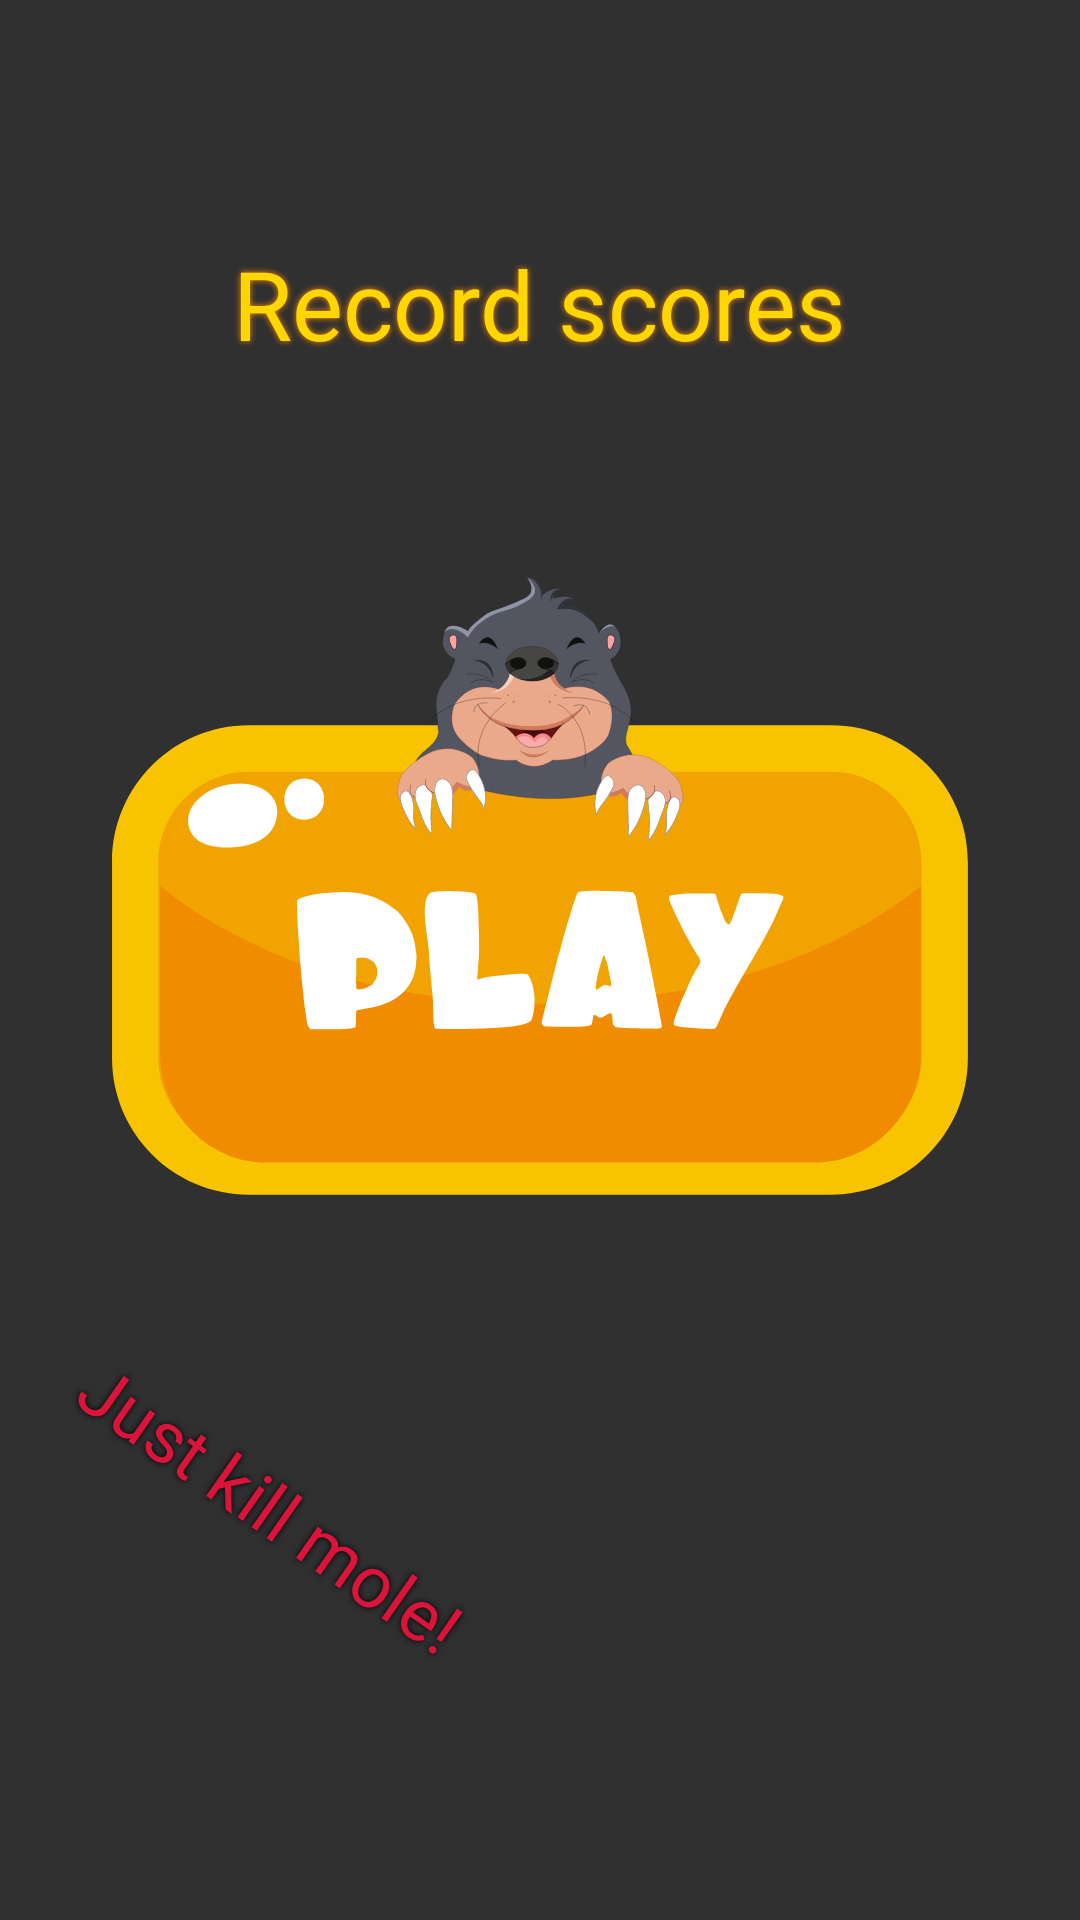

Icons on this 1080 × 1920 Android screen, each with the point to tap as [x,y]:
mole: [540,705]
